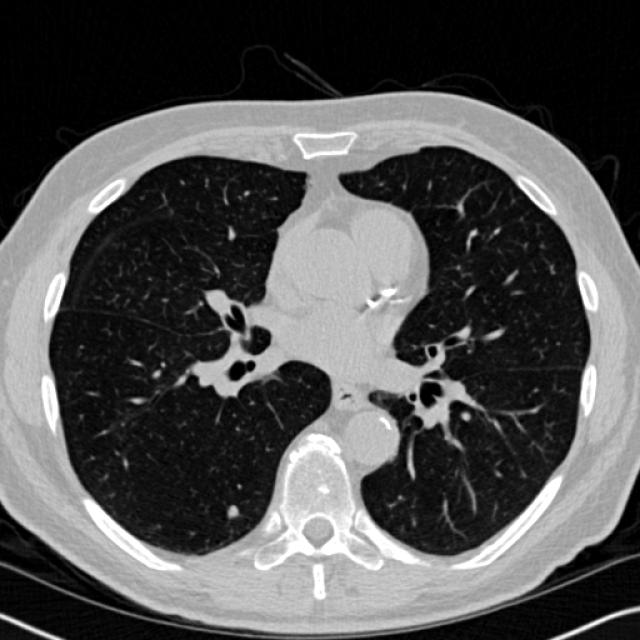nodule: (218, 498, 244, 522)
